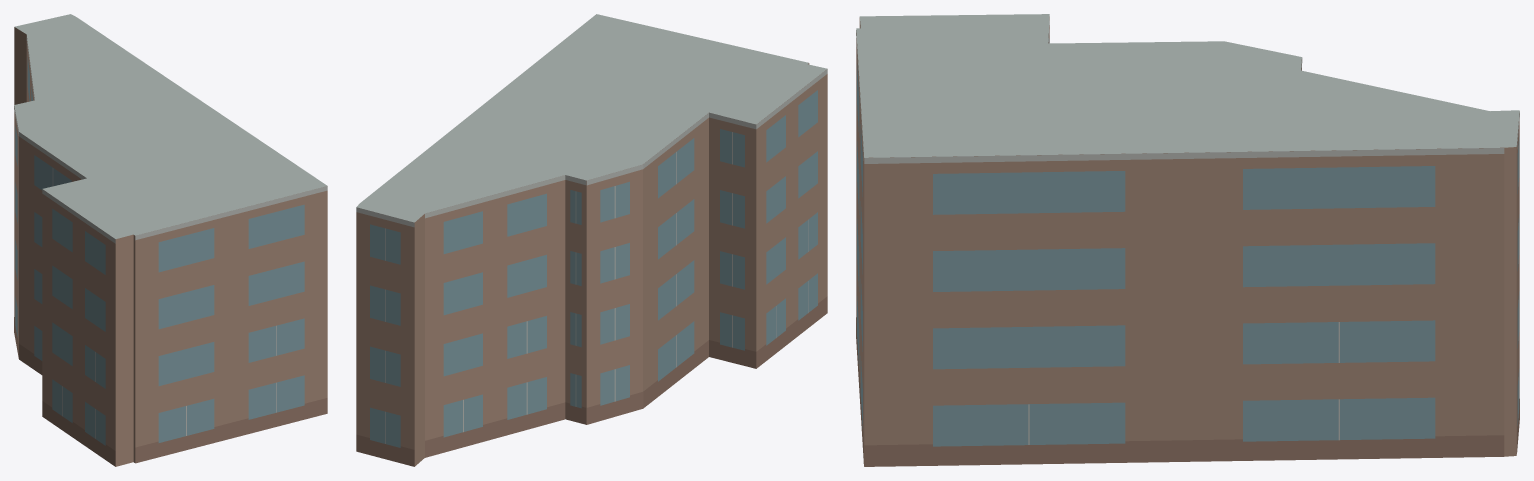
Rendered from survey-upis-32819341.glb.
3 views of the same model, side by side, from view 1: azimuth 30°, elevation 25°; view 2: azimuth 150°, elevation 25°; view 3: azimuth 270°, elevation 25° (orthographic). The views are drawn at different scales.
Visible parts, largest first — view 1: survey-upis-32819341.tmp; view 2: survey-upis-32819341.tmp; view 3: survey-upis-32819341.tmp.
Boxes of the visible parts, box(x1,y1,x2,y2) form: survey-upis-32819341.tmp: box(14, 14, 327, 466); survey-upis-32819341.tmp: box(356, 14, 827, 466); survey-upis-32819341.tmp: box(856, 14, 1519, 466).
Size of the model in its own units: 12.19 by 12.2 by 23.75.
